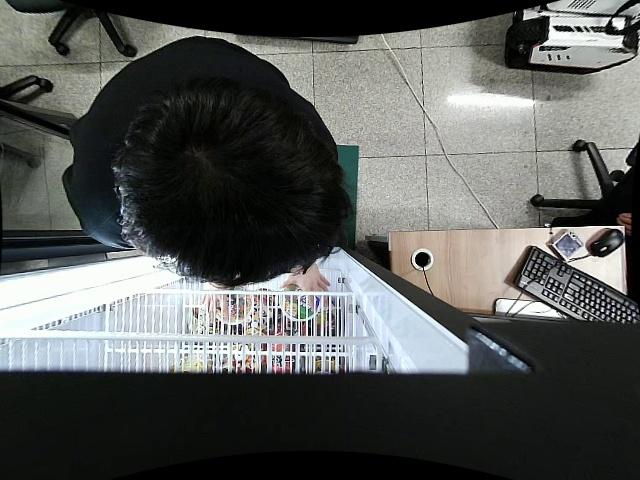00_hand: (280, 266, 332, 312), (197, 281, 231, 319)
09_yukGaeJang: (284, 282, 322, 319)
